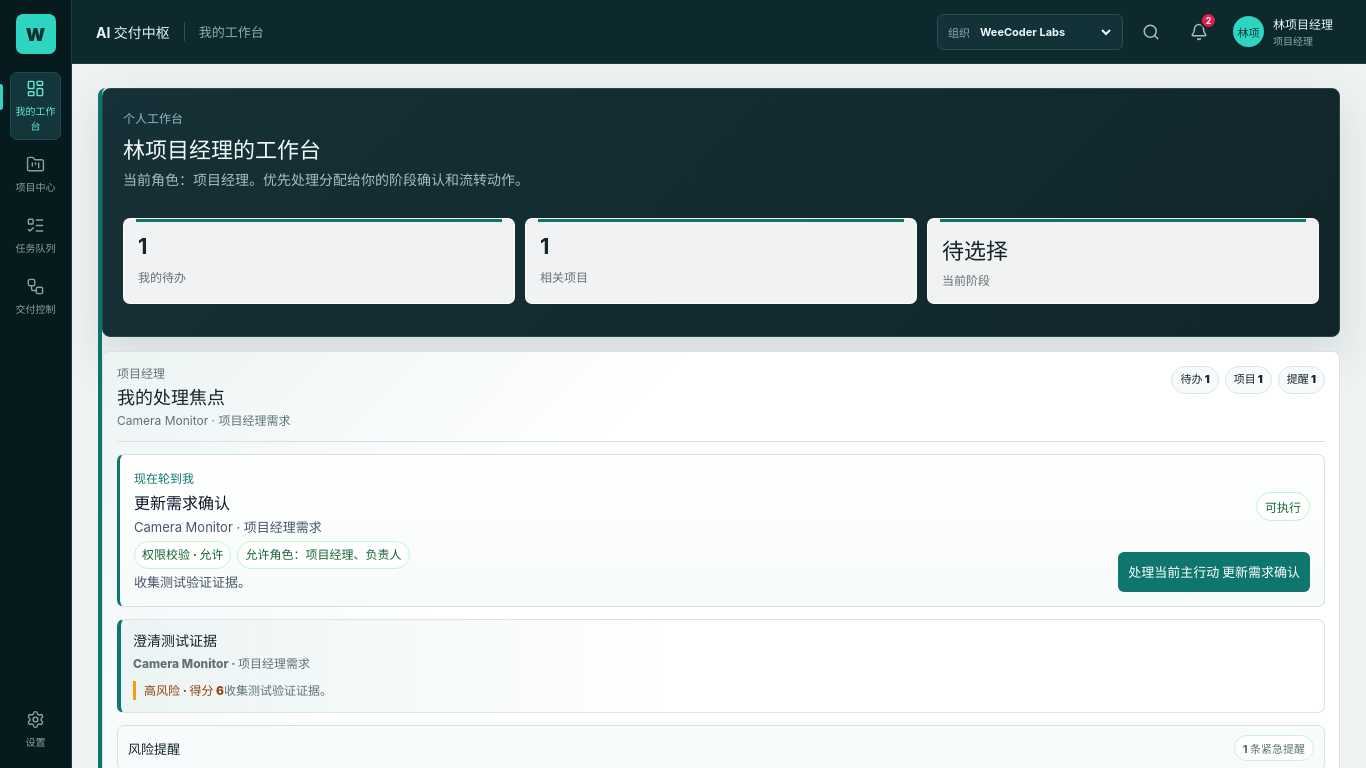
it: App › shows task priority context in the personal workspace queue
Expected: the text "高风险 · 得分 6" is shown, [144, 683, 224, 698]
Expected: the text "阶段闸口被 2 个事项阻塞。" is not shown
Step 1. Click the text "风险提醒" → (154, 748), box [128, 739, 180, 758]
(page scrolled)
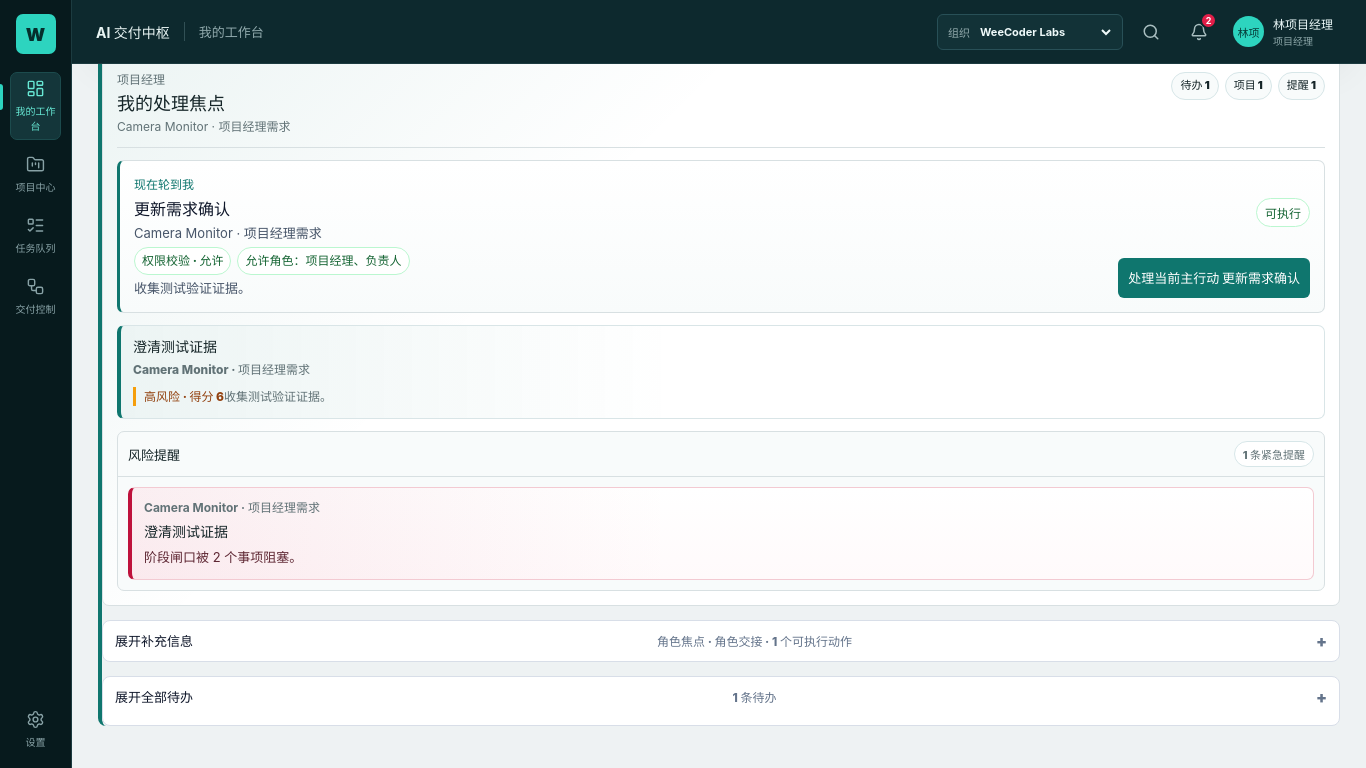
Now the text "阶段闸口被 2 个事项阻塞。" is shown, box [144, 549, 302, 565]
